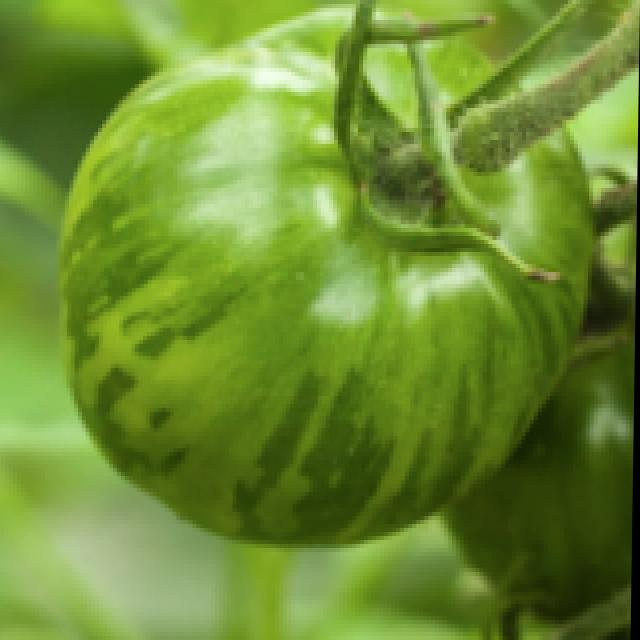yesil: (66, 9, 596, 540)
